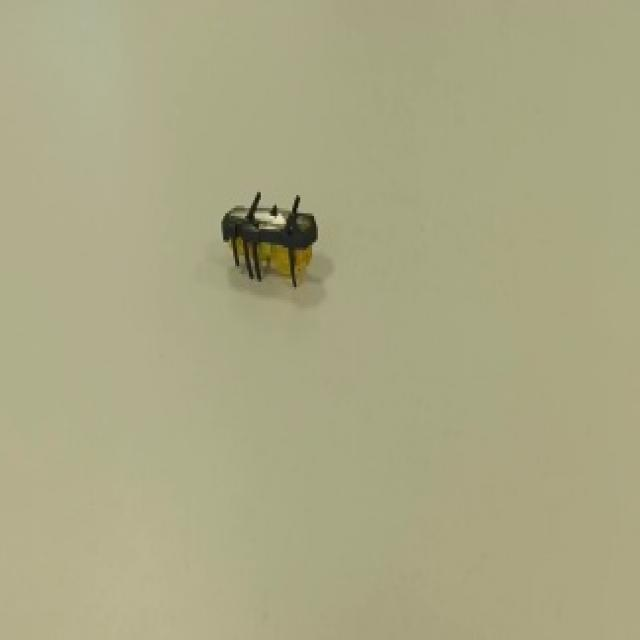6_NanoBug_GrisOscuro: (199, 178, 357, 320)
